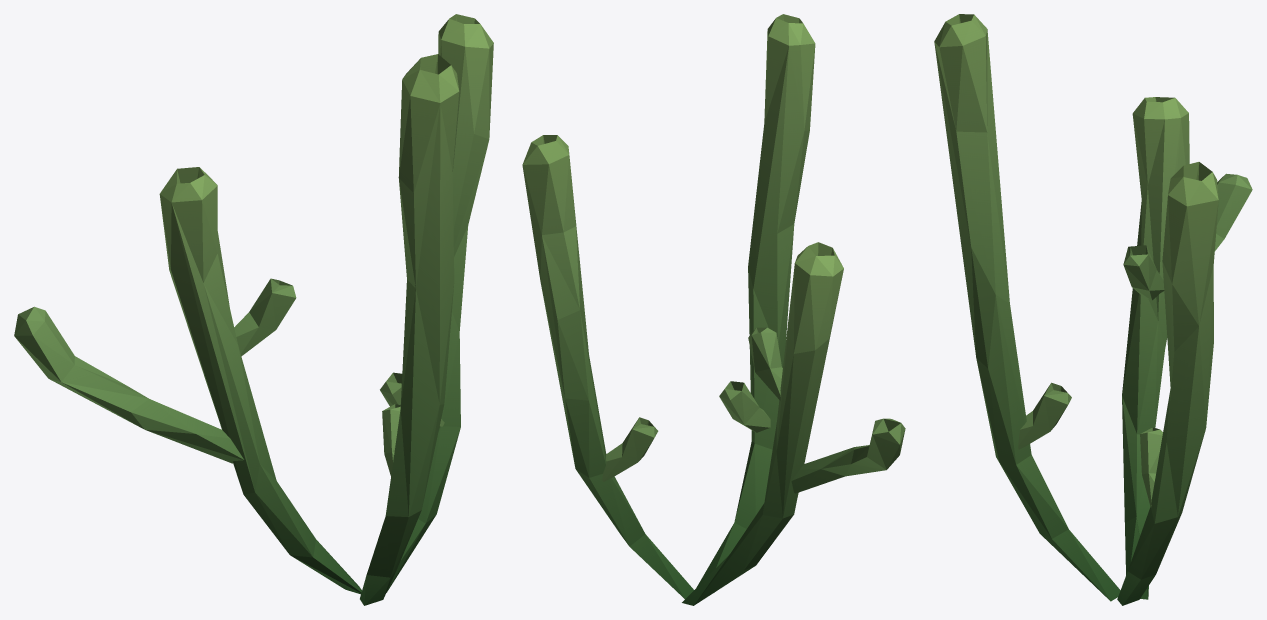
The model's file is SM_Spongia_13.fbx.
3 renders of one model, left to right at view 1: azimuth 30°, elevation 25°; view 2: azimuth 150°, elevation 25°; view 3: azimuth 270°, elevation 25°, orthographic. The views are drawn at different scales.
Visible parts, largest first — view 1: Spongia_13; view 2: Spongia_13; view 3: Spongia_13.
Boxes of the visible parts, <box> form: Spongia_13: <box>14,14,493,605</box>; Spongia_13: <box>522,14,905,605</box>; Spongia_13: <box>934,14,1252,605</box>.
Bounding box in the file's own units: 98.21 × 125 × 63.23.
